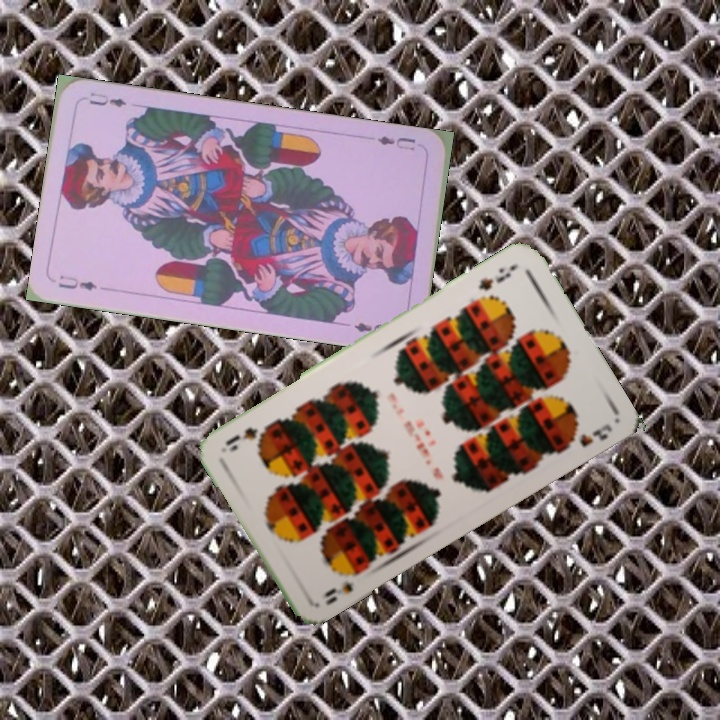EU: (54, 271, 100, 293), (373, 131, 418, 153)
S9: (320, 567, 364, 608), (474, 263, 514, 294)
